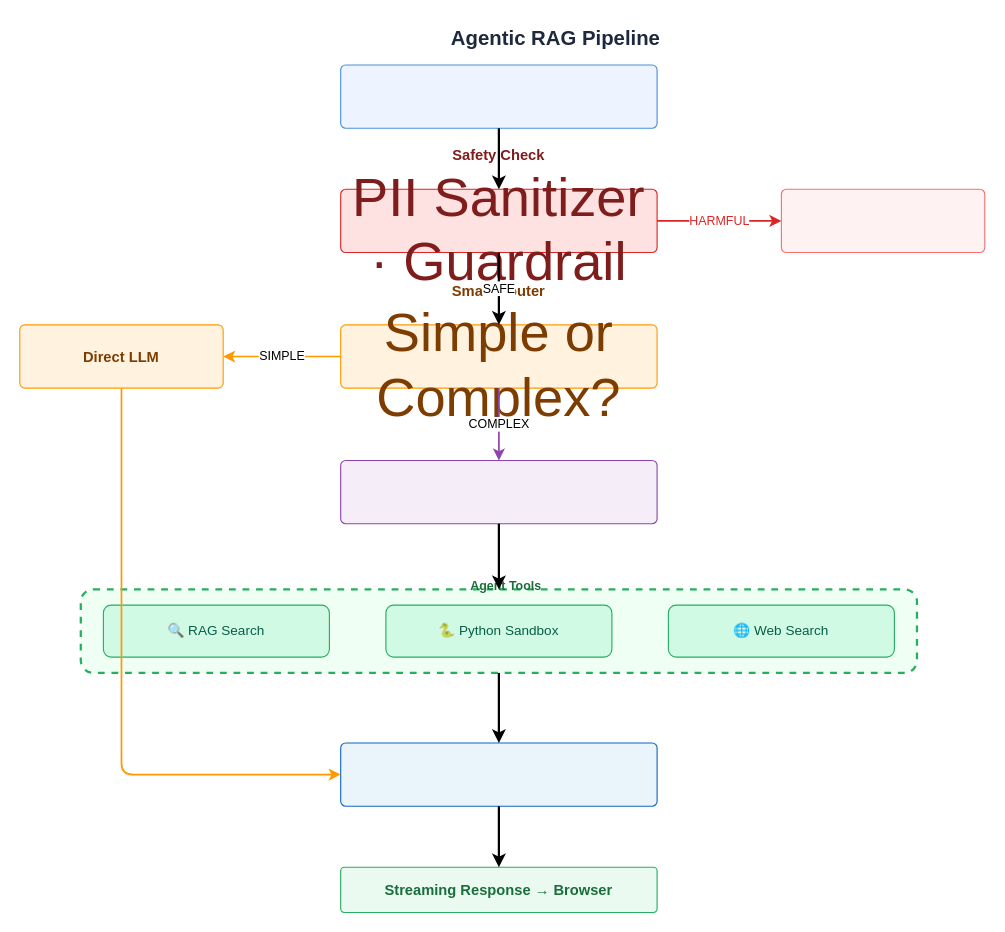
Image size: 1005x932. Some labels were removed from this diagram. The box of each missing label's shape, as (x1, y1, x2, y2) in pixels:
Answer Generator Citation grounded: (340, 742, 657, 806)
Blocked: (780, 188, 985, 253)
LangGraph Agent ReAct · Thread Memory: (340, 459, 657, 524)
User Message: (340, 64, 657, 128)
